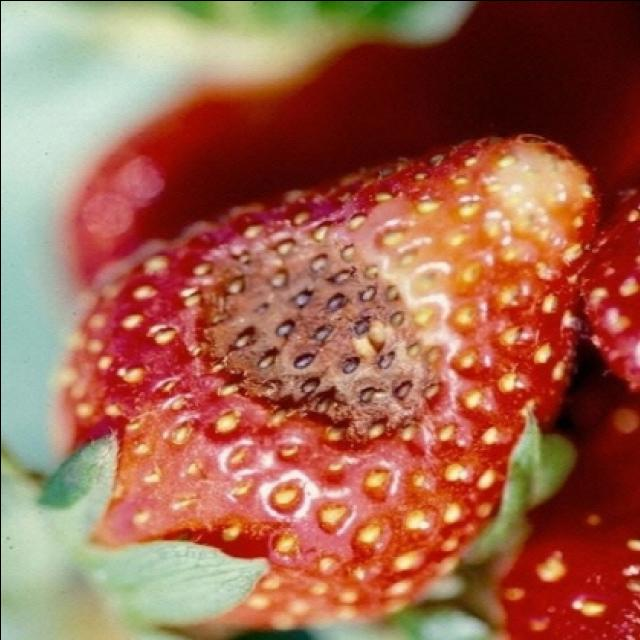Anthracnose Fruit Rot: (215, 252, 429, 396)
